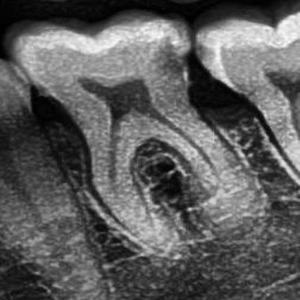tooth: (9, 15, 258, 248), (0, 14, 101, 293), (191, 1, 299, 192)
